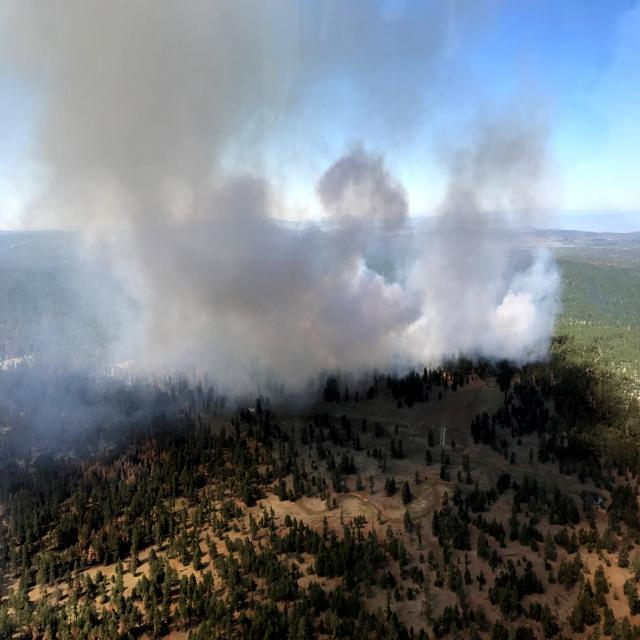Smoke: (0, 0, 573, 382)
